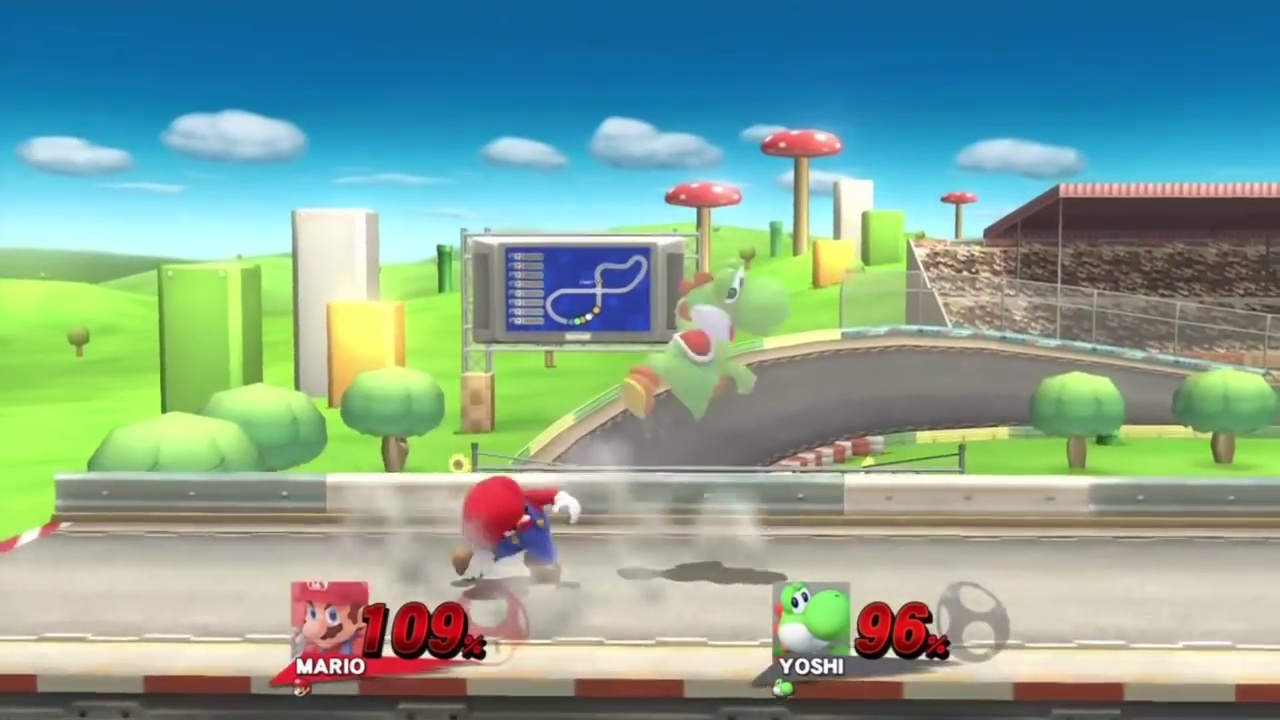Mario: (462, 476, 586, 586)
